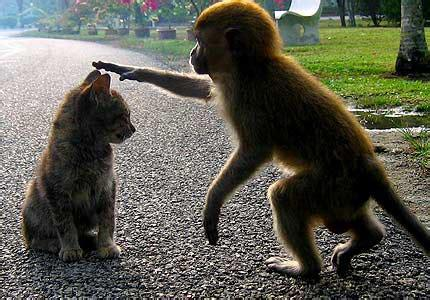cat: (22, 70, 134, 262)
monkey: (93, 1, 430, 277)
